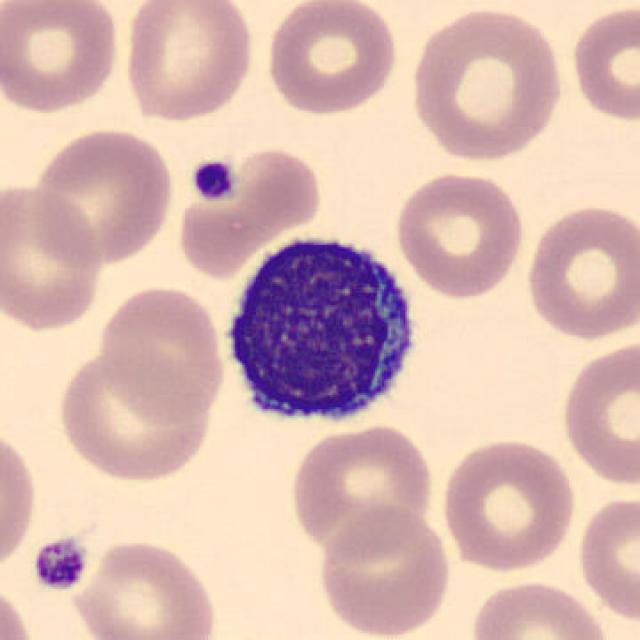Lymphocyte: (214, 222, 428, 436)
Platelets: (28, 534, 92, 594), (187, 157, 238, 204)
RBC: (405, 2, 569, 164), (52, 344, 220, 485), (27, 124, 176, 266), (285, 420, 439, 557), (176, 141, 327, 273), (438, 434, 580, 574), (313, 502, 455, 640), (94, 280, 228, 425), (391, 168, 528, 302), (119, 0, 258, 125), (521, 199, 638, 344), (261, 0, 402, 118), (0, 182, 107, 333), (68, 536, 220, 640), (0, 0, 123, 118), (556, 335, 638, 490), (465, 576, 615, 640), (572, 490, 638, 626), (567, 2, 638, 125), (0, 421, 41, 582), (0, 578, 41, 640)
